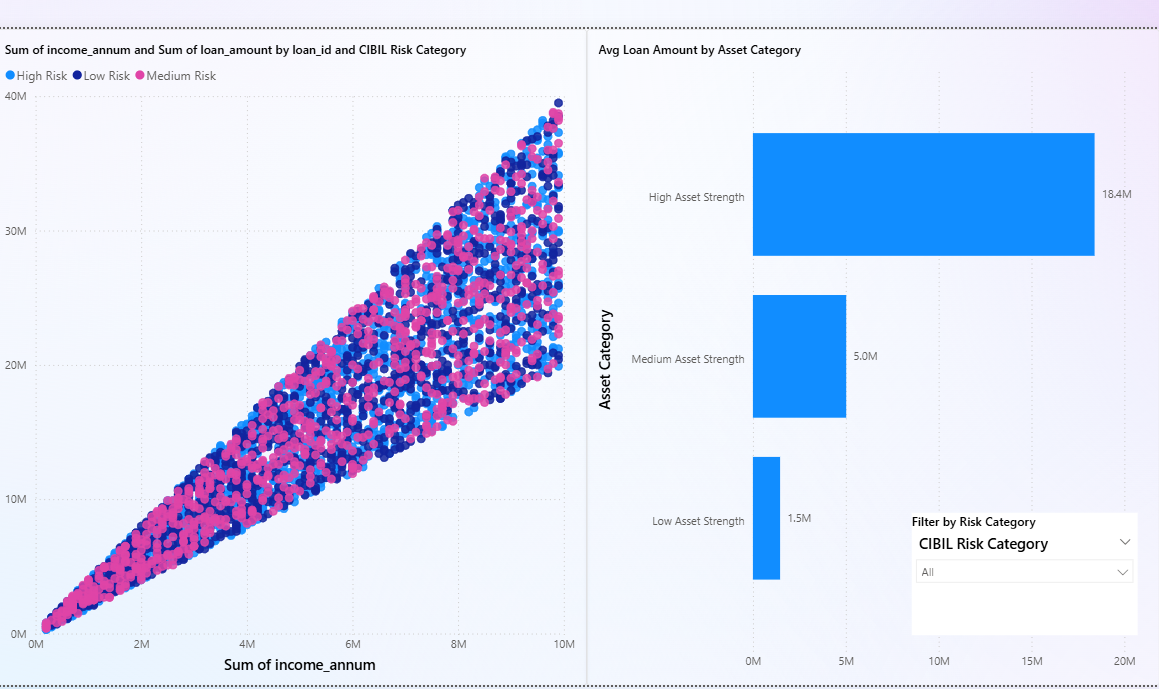

The dashboard page shown, as its layout file describes it:
{"tool":"powerbi","page":{"name":"Credit Risk Insights","canvas":[1280,720],"ordinal":5},"visuals":[{"type":"scatterChart","fields":{"X":["Sum(loan_approval_dataset.income_annum)"],"Y":["Sum(loan_approval_dataset.loan_amount)"],"Series":["loan_approval_dataset.CIBIL Risk Category"],"Category":["loan_approval_dataset.loan_id"]},"box":[0,0,651.8,720.4],"z":0},{"type":"barChart","fields":{"Category":["loan_approval_dataset.Asset Category"],"Y":["loan_approval_dataset.Avg Loan Amount"]},"box":[651.8,0,628.5,720.4],"z":1000},{"type":"slicer","title":"Filter by Risk Category","fields":{"Values":["loan_approval_dataset.CIBIL Risk Category"]},"box":[1008.6,531,248.4,134.5],"z":2000}]}

Visuals, with their boxes on the page's 1280x720 design canvas (x1, y1, x2, y2). These are canvas units, not pixel positions in the 1159x689 screenshot, which may show the page scaled, cropped or inside an application window:
scatterChart - Sum(loan_approval_dataset.income_annum) x Sum(loan_approval_dataset.loan_amount): [0, 0, 652, 720]
barChart - loan_approval_dataset.Asset Category x loan_approval_dataset.Avg Loan Amount: [652, 0, 1280, 720]
"Filter by Risk Category" slicer: [1009, 531, 1257, 666]
